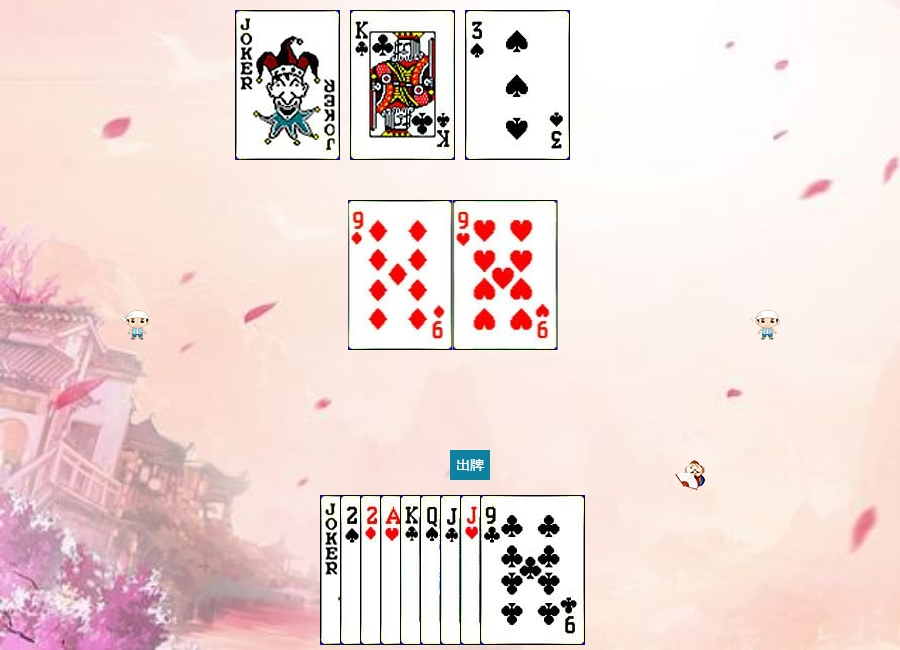11~2: (440, 495, 545, 645)
11~3: (460, 495, 565, 645)
12~4: (420, 495, 525, 645)
13~2: (350, 10, 455, 160), (400, 495, 505, 645)
14~3: (380, 495, 485, 645)
15~1: (360, 495, 465, 645)
15~4: (340, 495, 445, 645)
17~3: (235, 10, 340, 160), (320, 495, 425, 645)
3~4: (465, 10, 570, 160)
9~1: (348, 200, 453, 350)
9~2: (480, 495, 585, 645)
9~3: (453, 200, 558, 350)
